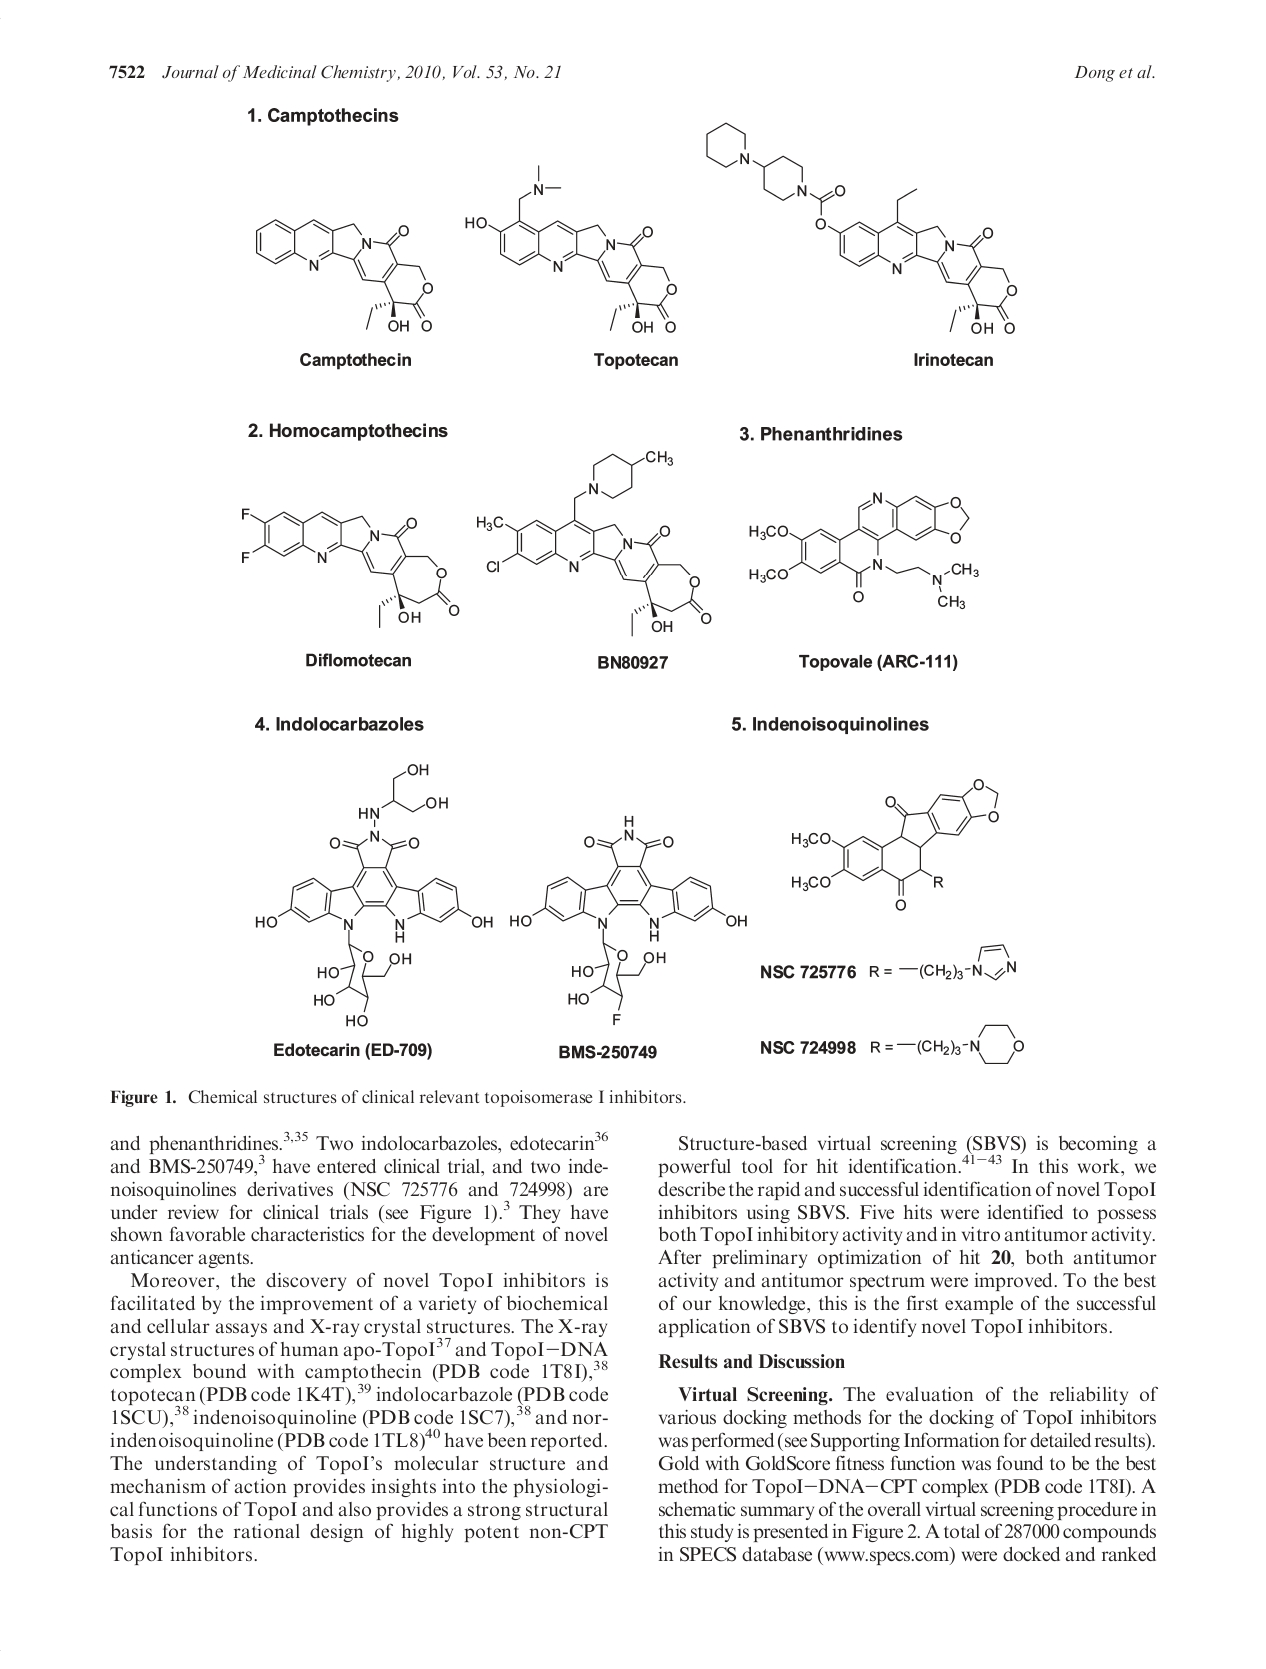exist_molecular: (705, 118, 1017, 338), (255, 762, 497, 1031), (507, 813, 749, 1029), (473, 446, 714, 637), (461, 164, 684, 336), (238, 501, 460, 630), (793, 778, 1001, 912), (747, 489, 979, 610), (254, 217, 435, 334), (895, 1021, 1032, 1067), (899, 940, 1019, 988)
